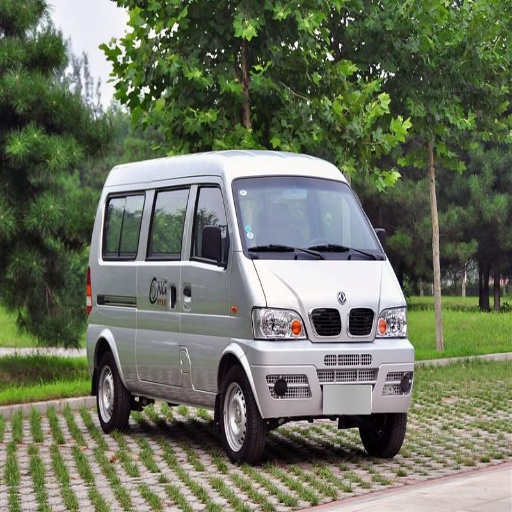front_bumper: (245, 303, 412, 416)
front_glass: (232, 176, 382, 258)
front_right_door: (176, 178, 233, 320)
front_right_light: (253, 307, 303, 340)
trunk: (152, 328, 224, 394)
